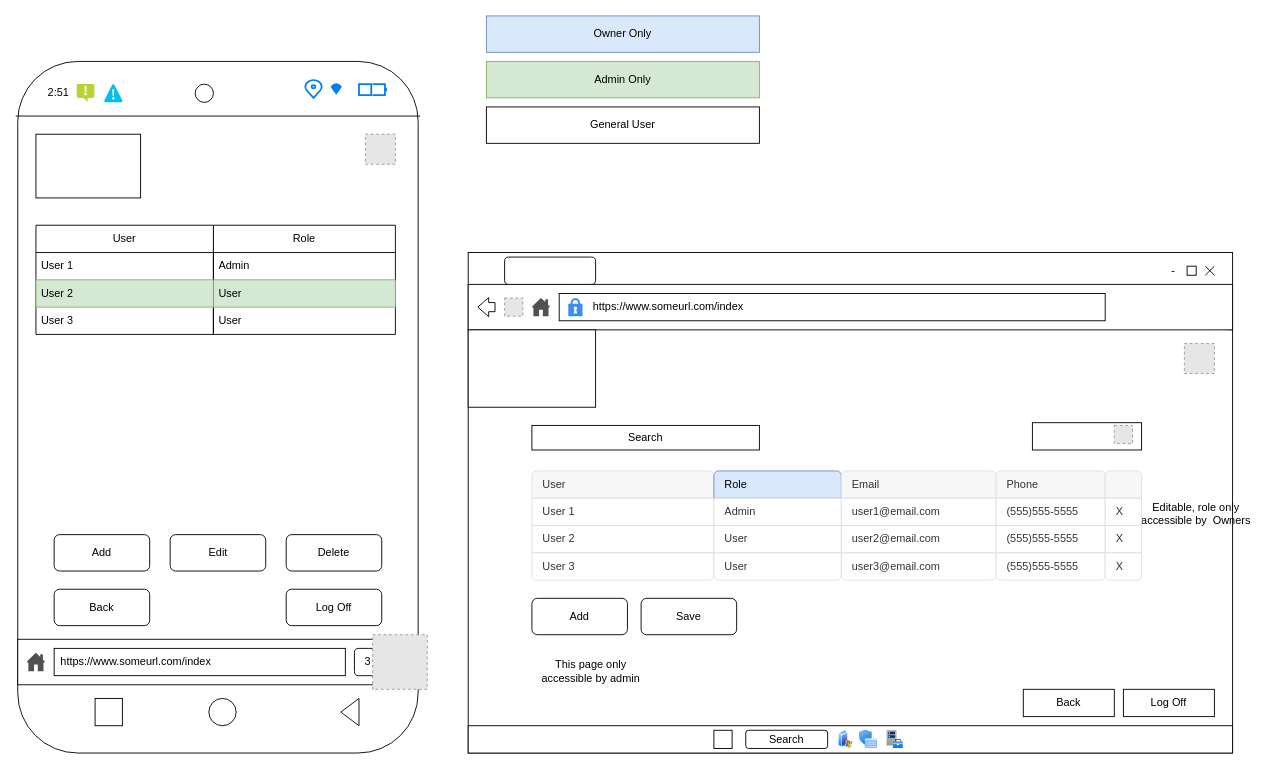
Image size: 1276x769. Some labels were removed from this diagram. Grey dashed boxes stand in for pictures. The shapes that lost their labels are listed below. From the top down, each one's box as (x1, y1, x2, y2) in pixels, then its label:
(35, 133, 141, 198): Logo
(504, 256, 596, 284): Tab
(467, 329, 596, 407): Company Logo
(1031, 422, 1142, 450): Filters
